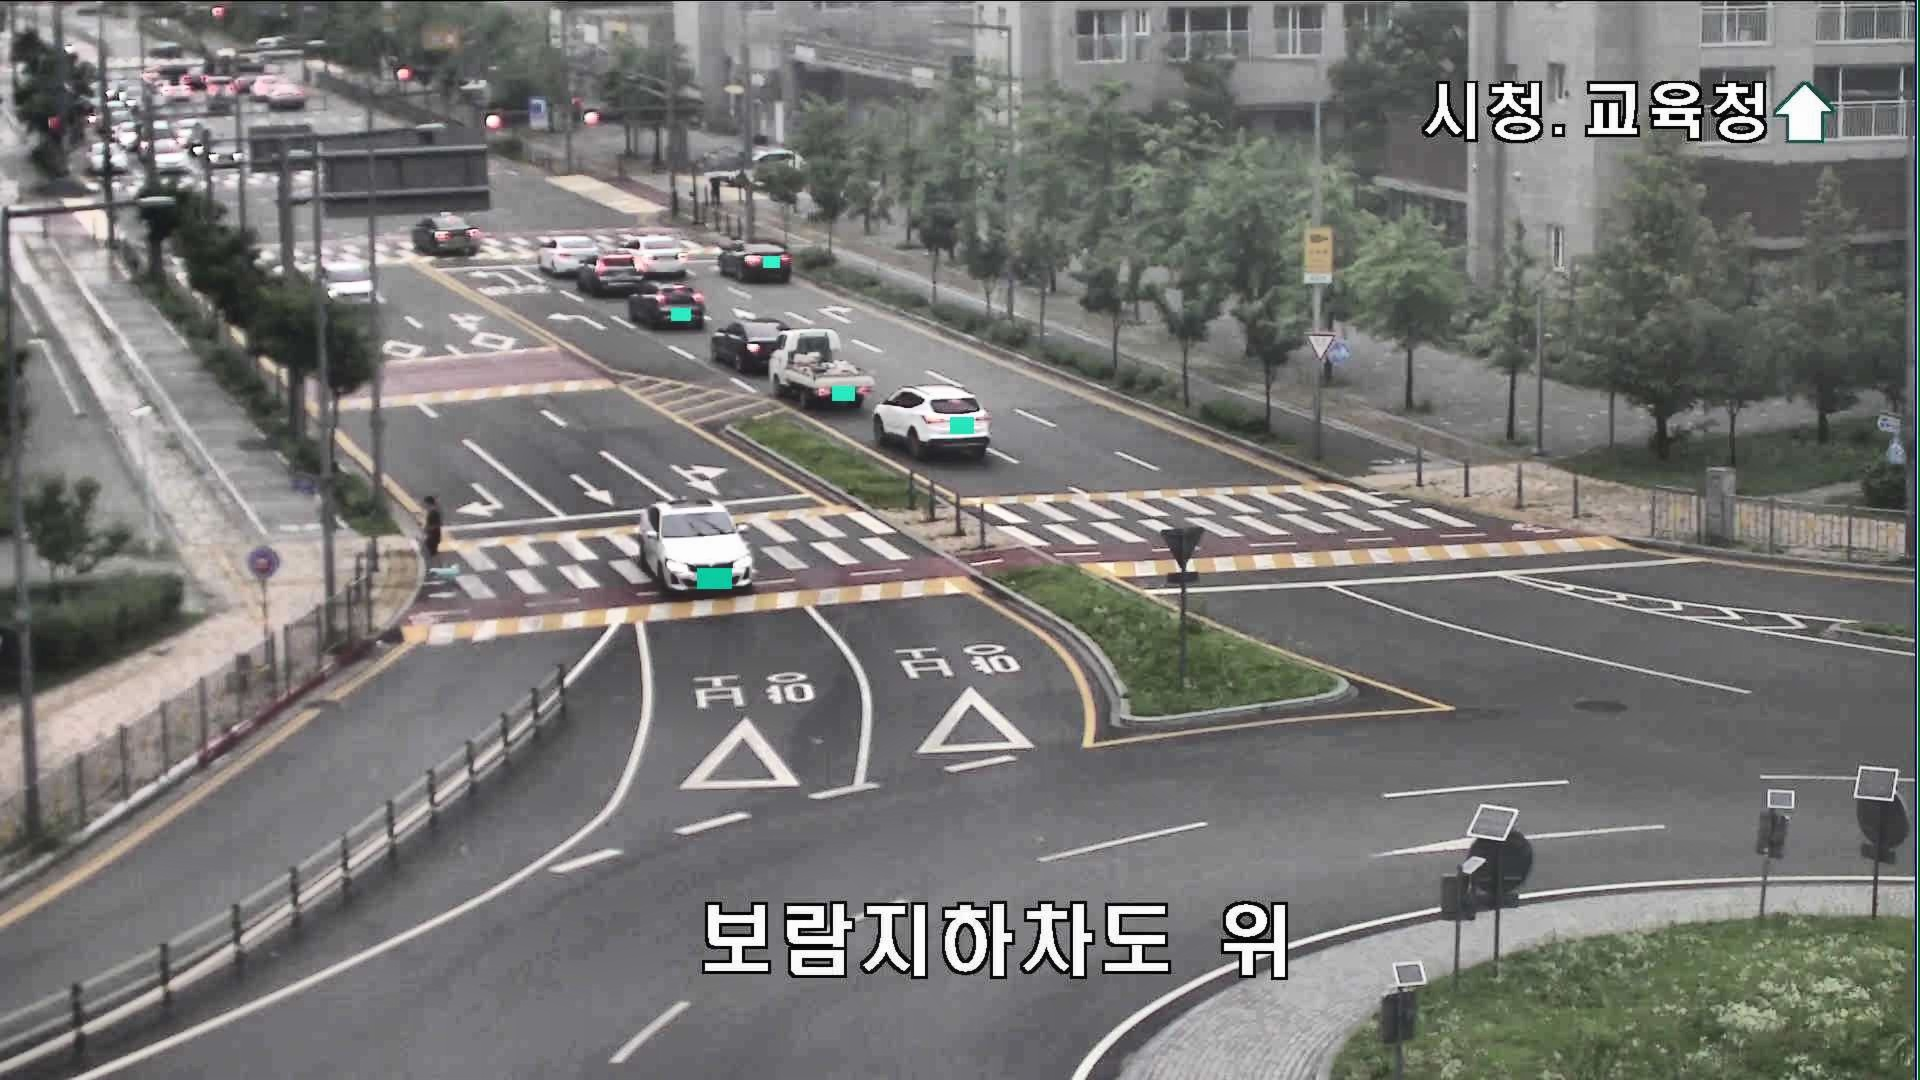crosswalk: (415, 491, 440, 572)
